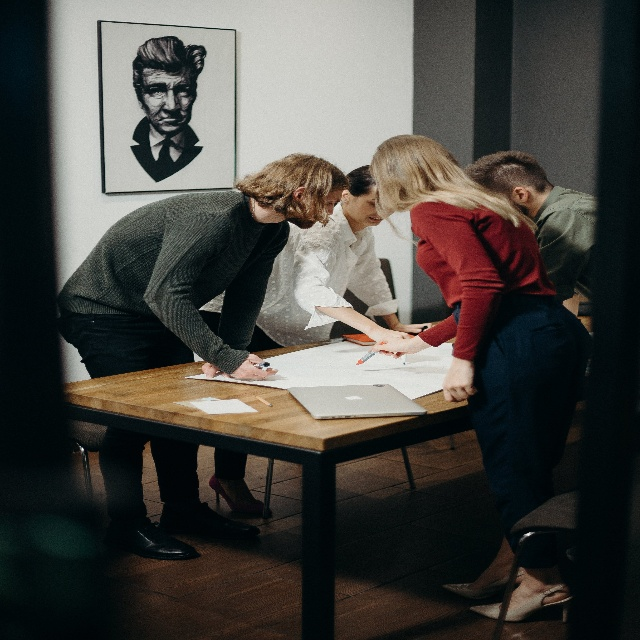Sin_guantes: (442, 354, 477, 404), (231, 354, 279, 381), (368, 335, 415, 359), (374, 325, 410, 343), (201, 361, 231, 379), (398, 322, 434, 334)
